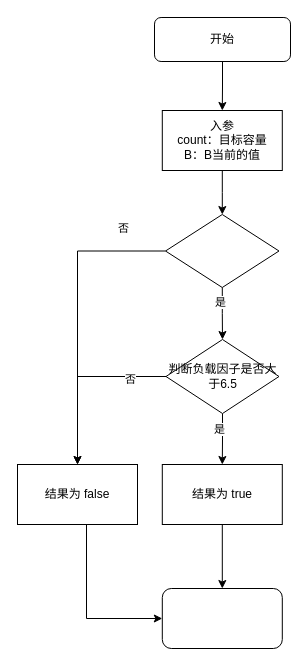
This 308x666 diagram has some shape labels left out. The shapes that lost their labels are listed below. From the top down, each one's centre as x and y in pixels, then its label:
At [221,251]: "判断count是否大于8".
At [221,618]: "返回结果，结束".
